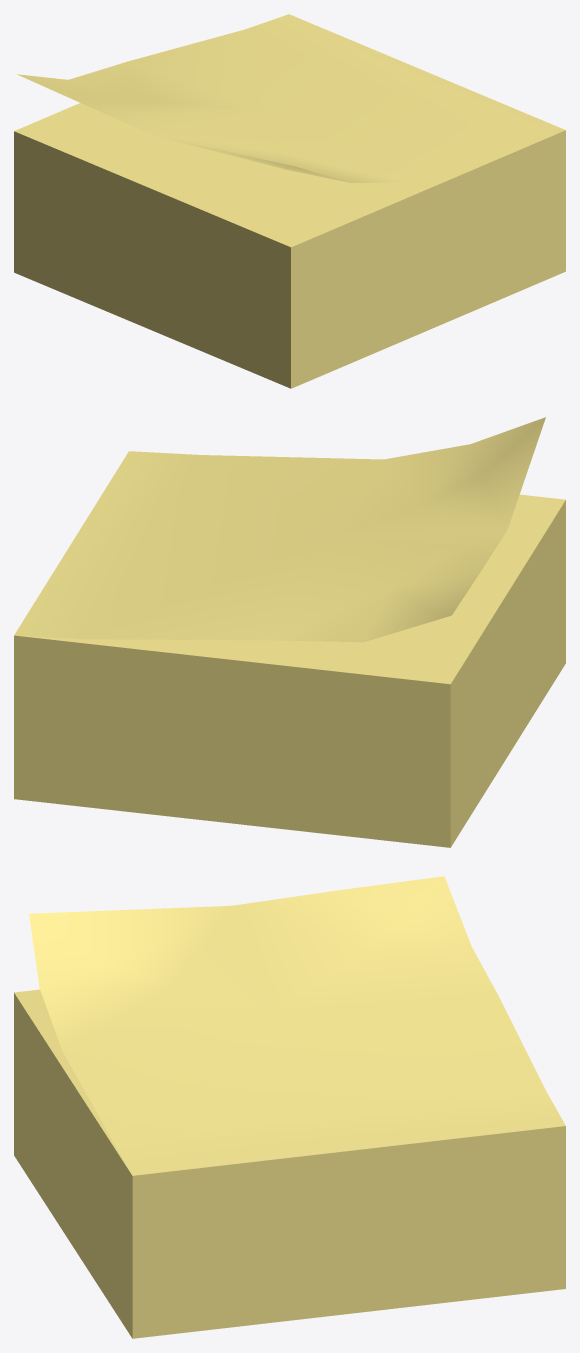
File: PostItNotes_2.fbx
3 renders of one model, top to bottom at view 1: azimuth 30°, elevation 25°; view 2: azimuth 150°, elevation 25°; view 3: azimuth 270°, elevation 25°, orthographic. The views are drawn at different scales.
Visible parts, largest first — view 1: PostItNotes_2; view 2: PostItNotes_2; view 3: PostItNotes_2.
Boxes of the visible parts, x1,y1,x2,y2 form: PostItNotes_2: (14, 14, 565, 388); PostItNotes_2: (14, 417, 565, 847); PostItNotes_2: (14, 876, 565, 1338).
Size of the model in its own units: 13.2 by 6.54 by 13.2.
